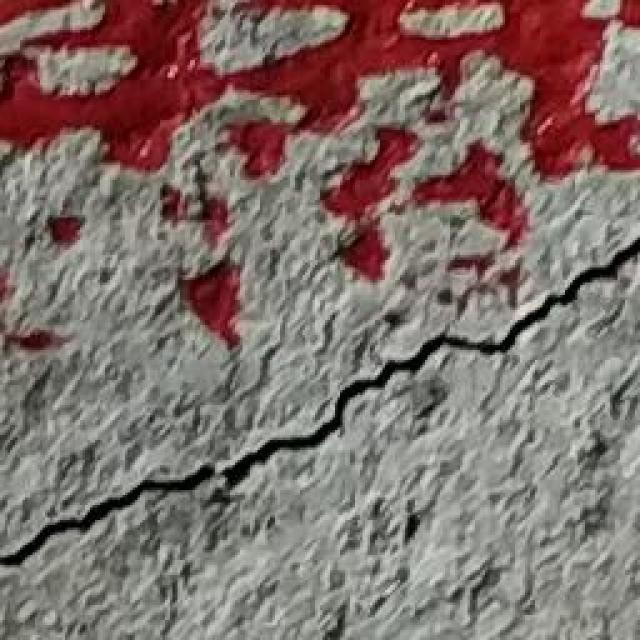Diagonal: (1, 237, 640, 560)
Rippled: (0, 0, 640, 209)
